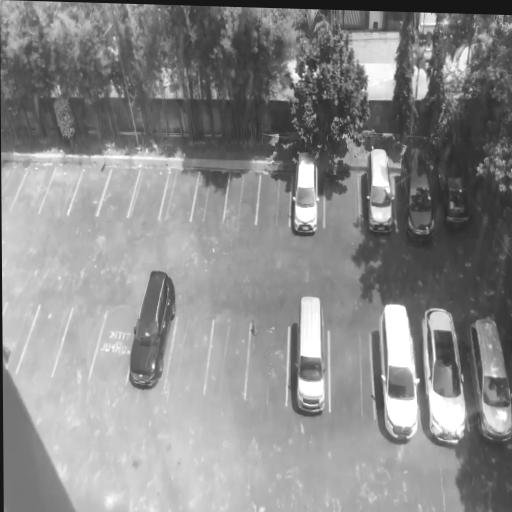Car: (124, 266, 179, 396), (420, 306, 469, 448), (468, 302, 512, 447), (377, 301, 421, 438), (294, 294, 326, 414), (399, 144, 437, 243), (431, 145, 471, 223), (366, 147, 395, 234), (292, 148, 320, 235)
Space Available: (203, 319, 253, 399), (50, 309, 106, 380), (15, 307, 72, 376), (328, 332, 374, 417), (244, 322, 289, 406), (165, 315, 214, 391), (88, 311, 135, 385), (2, 301, 40, 374), (189, 169, 230, 223), (38, 166, 84, 214), (126, 169, 169, 220), (159, 170, 199, 224), (68, 169, 112, 218), (323, 171, 360, 227), (11, 164, 54, 212), (223, 171, 261, 225), (256, 172, 292, 227), (97, 170, 138, 217), (2, 162, 27, 210)
